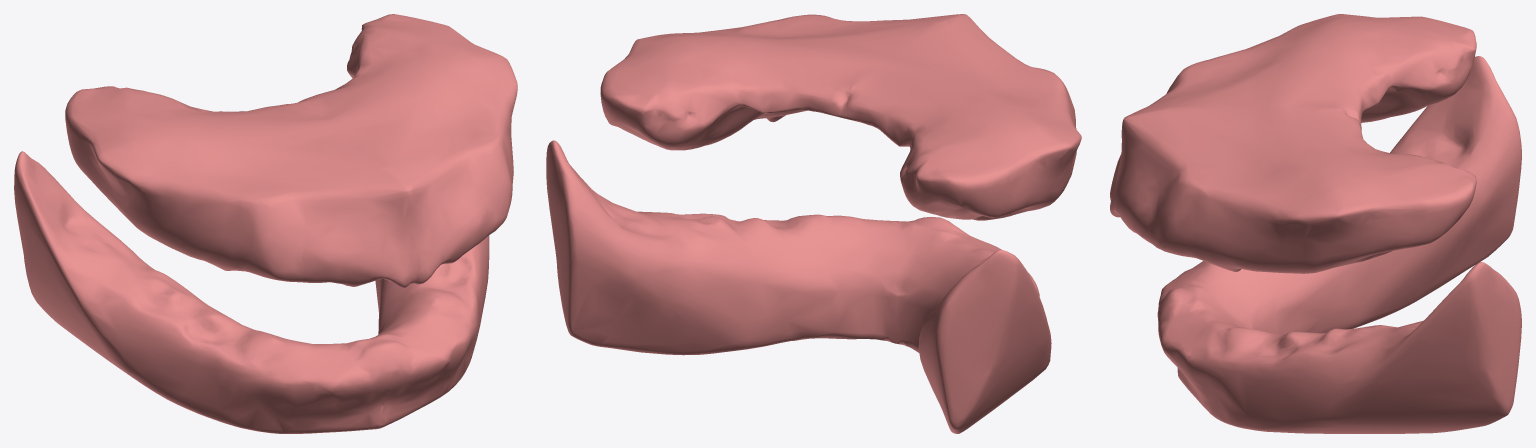
Rendered from visceras-gingiva.glb.
3 views of the same model, side by side, from view 1: azimuth 30°, elevation 25°; view 2: azimuth 150°, elevation 25°; view 3: azimuth 270°, elevation 25° (orthographic). The views are drawn at different scales.
Visible parts, largest first — view 1: Gingiva; view 2: Gingiva; view 3: Gingiva.
Part boxes in pixels (<box>): Gingiva: <box>14,14,517,433</box>; Gingiva: <box>546,14,1081,433</box>; Gingiva: <box>1110,14,1521,433</box>.
Size of the model in its own units: 0.0735 by 0.0443 by 0.0589.
